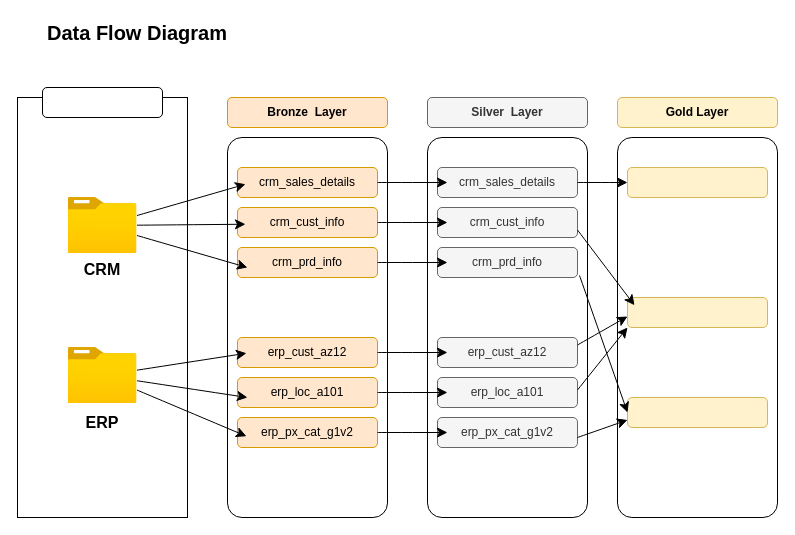
This 795x535 diagram has some shape labels left out. Each missing label, with the box of its shape:
dim_customers: (626, 296, 768, 328)
dim_products: (626, 396, 768, 428)
facts_sales: (626, 166, 768, 198)
SOURCES: (42, 86, 162, 118)
